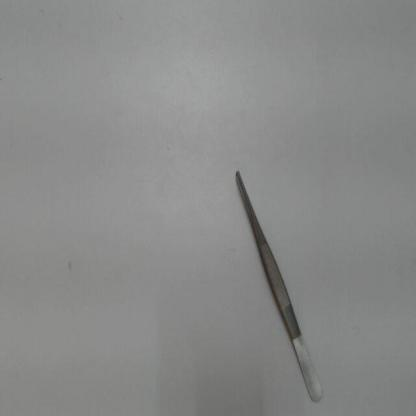Gillies Toothed Dissector: (225, 156, 332, 409)
